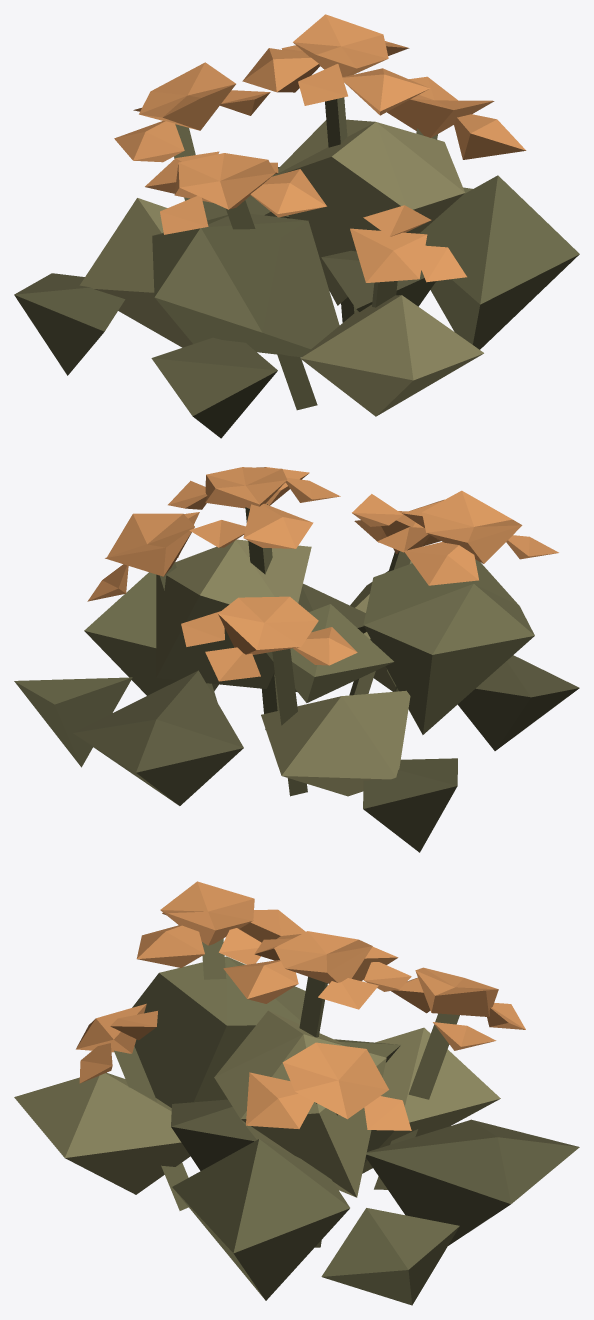
The model's file is SM_Env_Flowers_05.glb.
3 views of the same model, one above another, from view 1: azimuth 30°, elevation 25°; view 2: azimuth 150°, elevation 25°; view 3: azimuth 270°, elevation 25° (orthographic). The views are drawn at different scales.
Parts seen in each view (by area): view 1: SM_Env_Flowers_05; view 2: SM_Env_Flowers_05; view 3: SM_Env_Flowers_05.
Boxes of the visible parts, left/top/right/bottom form: SM_Env_Flowers_05: left=14, top=14, right=579, bottom=438; SM_Env_Flowers_05: left=14, top=467, right=579, bottom=852; SM_Env_Flowers_05: left=14, top=881, right=579, bottom=1305.
Bounding box in the file's own units: 1.2 × 0.7759 × 1.27.
Materials: 1 (1 with a texture image).
